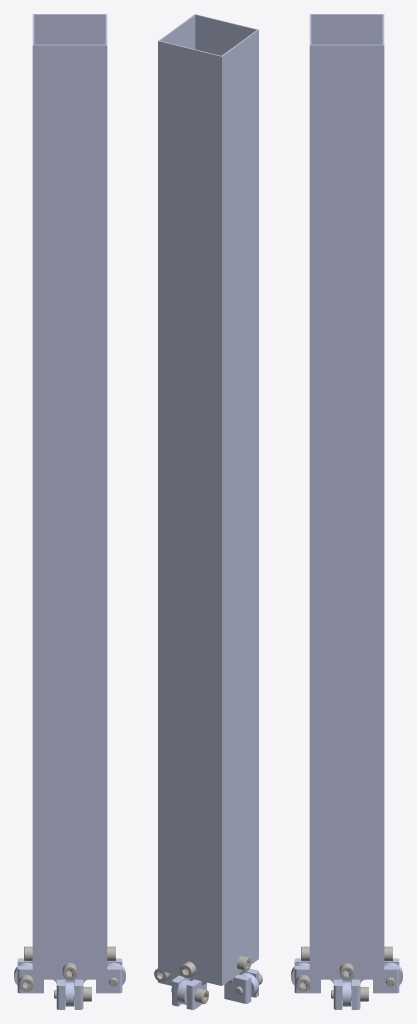
3 renders of one model, left to right at view 1: azimuth 90°, elevation 25°; view 2: azimuth 150°, elevation 25°; view 3: azimuth 270°, elevation 25°, orthographic.
Parts seen in each view (by area): view 1: Solid1 (×2); view 2: Solid1 (×2); view 3: Solid1 (×2).
Boxes of the visible parts, x1,y1,x2,y2 form: Solid1 (×2): [17, 14, 122, 1009]; Solid1 (×2): [158, 14, 258, 1009]; Solid1 (×2): [294, 14, 399, 1009].
Bounding box in the file's own units: 0.0764 × 0.722 × 0.0764.
